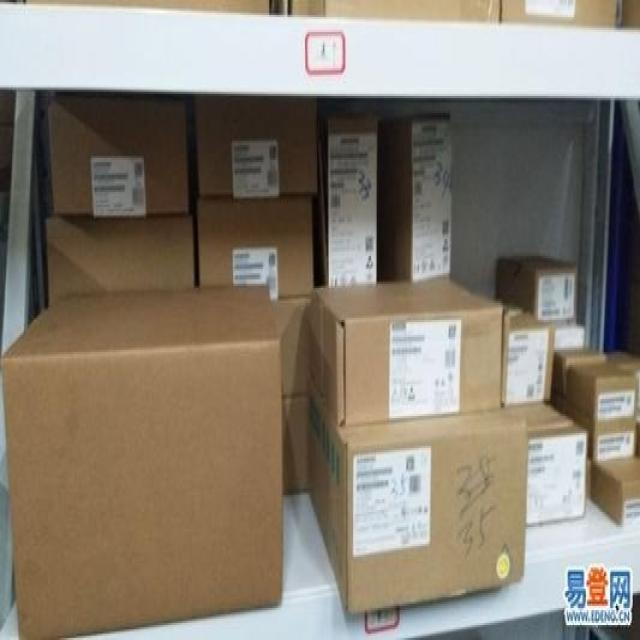box: (2, 283, 283, 638), (306, 384, 527, 617), (310, 276, 502, 424), (41, 97, 192, 217), (41, 214, 195, 302), (191, 95, 318, 195), (377, 114, 452, 282), (196, 196, 313, 299), (503, 400, 586, 527), (319, 114, 376, 288), (496, 254, 577, 322), (503, 308, 555, 405), (565, 400, 638, 464), (565, 360, 638, 422), (25, 0, 275, 18), (289, 0, 501, 21), (271, 298, 312, 397), (500, 1, 620, 32), (589, 452, 639, 526), (549, 349, 606, 398), (283, 393, 310, 495), (553, 322, 584, 353)
